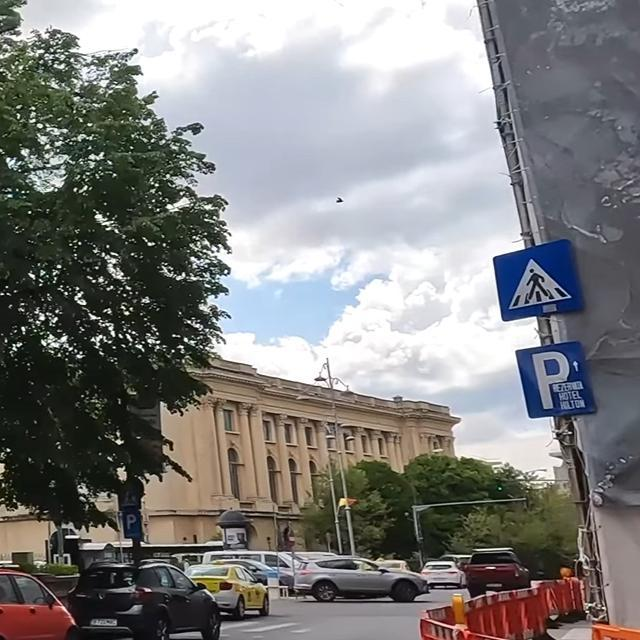info_crosswalk: (494, 237, 585, 319)
